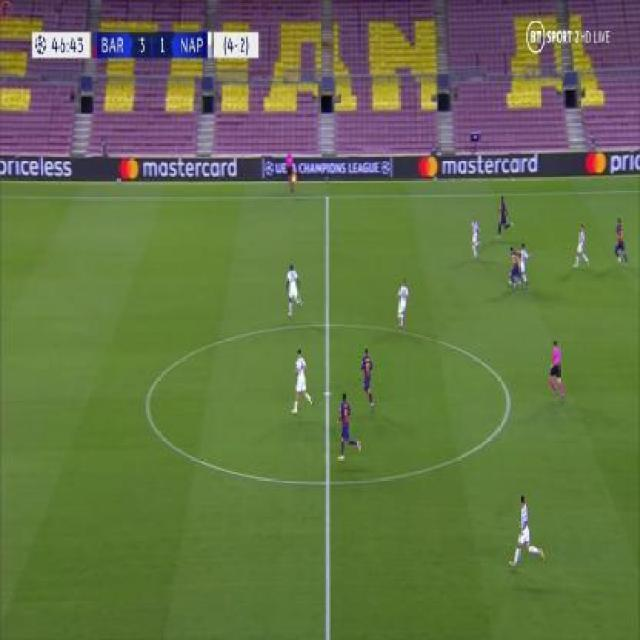ball: (507, 276, 513, 289)
player: (507, 491, 544, 570), (290, 346, 313, 417), (336, 389, 358, 460), (356, 343, 376, 412), (547, 335, 566, 400), (394, 274, 411, 333), (612, 217, 631, 268), (284, 261, 301, 317), (495, 193, 514, 241), (573, 220, 590, 269), (515, 242, 532, 288), (282, 146, 298, 192), (507, 243, 521, 289), (468, 211, 481, 257)
